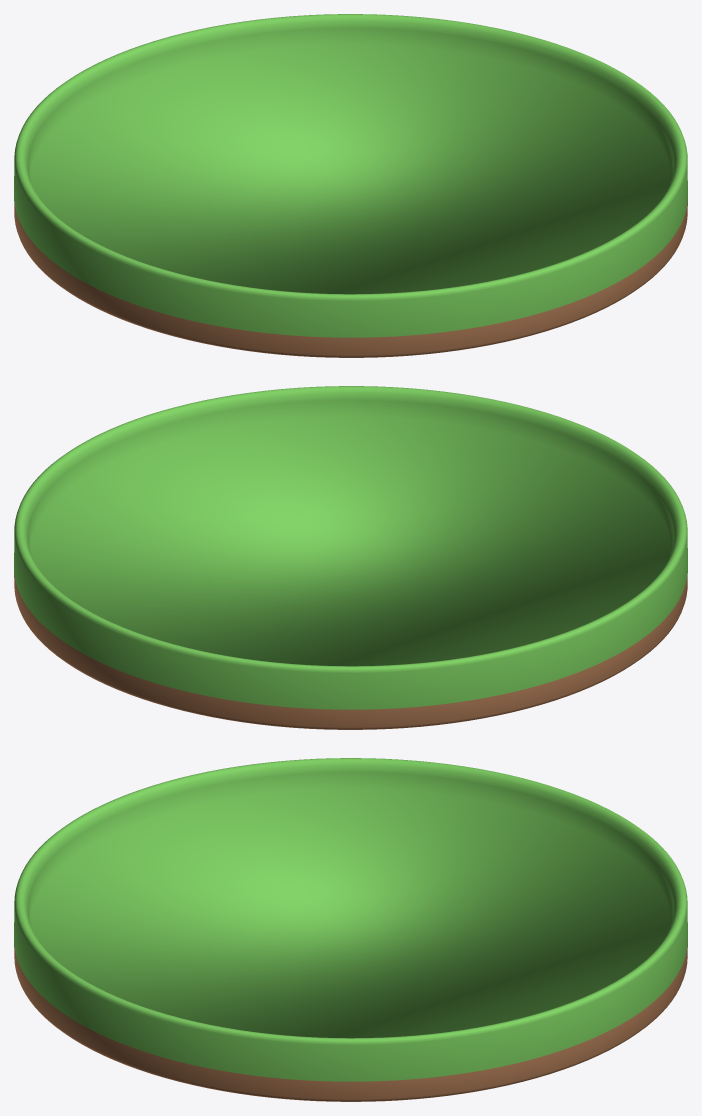
The picture shows the model from 3 angles, top to bottom: view 1: azimuth 30°, elevation 25°; view 2: azimuth 150°, elevation 25°; view 3: azimuth 270°, elevation 25°; orthographic projection.
Parts seen in each view (by area): view 1: 円, 円_1; view 2: 円, 円_1; view 3: 円, 円_1.
Boxes of the visible parts, <box> form: 円: <box>14,14,687,337</box>; 円_1: <box>14,199,687,357</box>; 円: <box>14,386,687,709</box>; 円_1: <box>14,571,687,729</box>; 円: <box>14,758,687,1081</box>; 円_1: <box>14,942,687,1101</box>.
Bounding box in the file's own units: 98.7 × 10.13 × 98.7.
